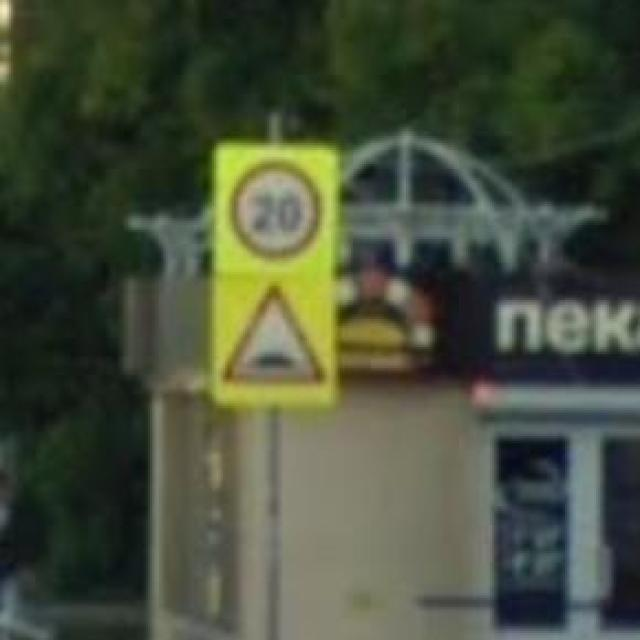forb_speed_over_20: (225, 155, 325, 265)
